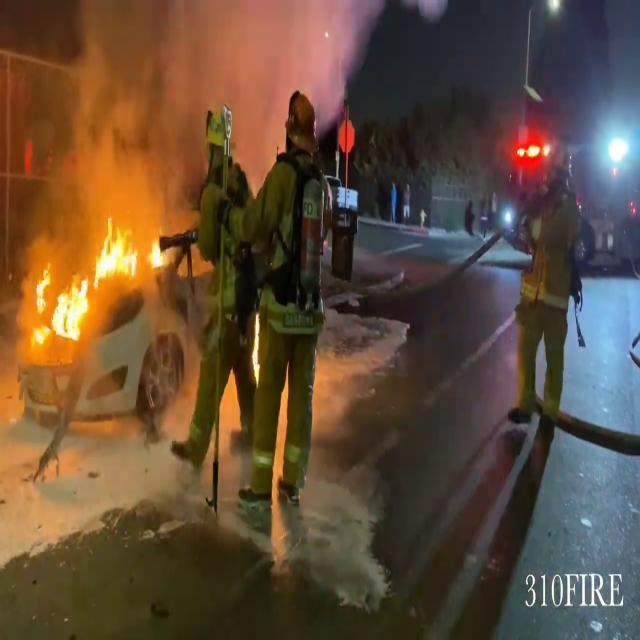Fire: (24, 206, 172, 348)
Smoke: (19, 0, 352, 203)
